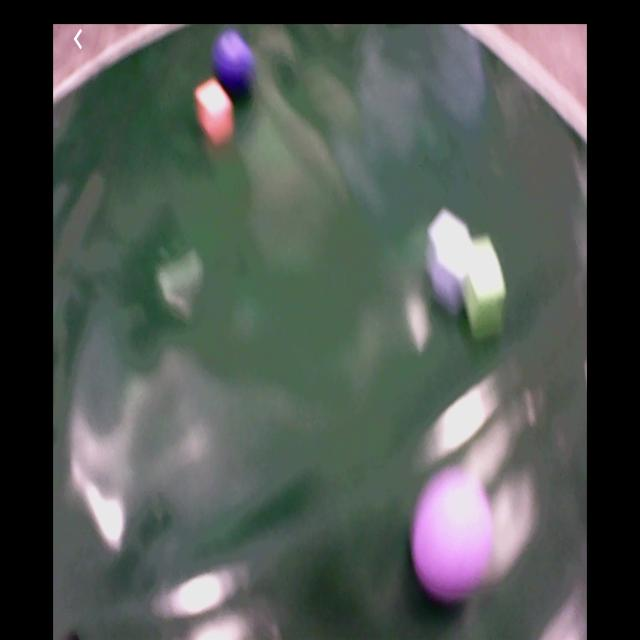ball: (413, 467, 493, 601), (216, 32, 252, 99)
